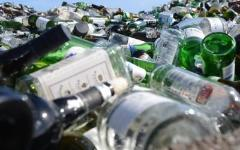glass: (150, 26, 236, 84), (0, 23, 72, 80)
